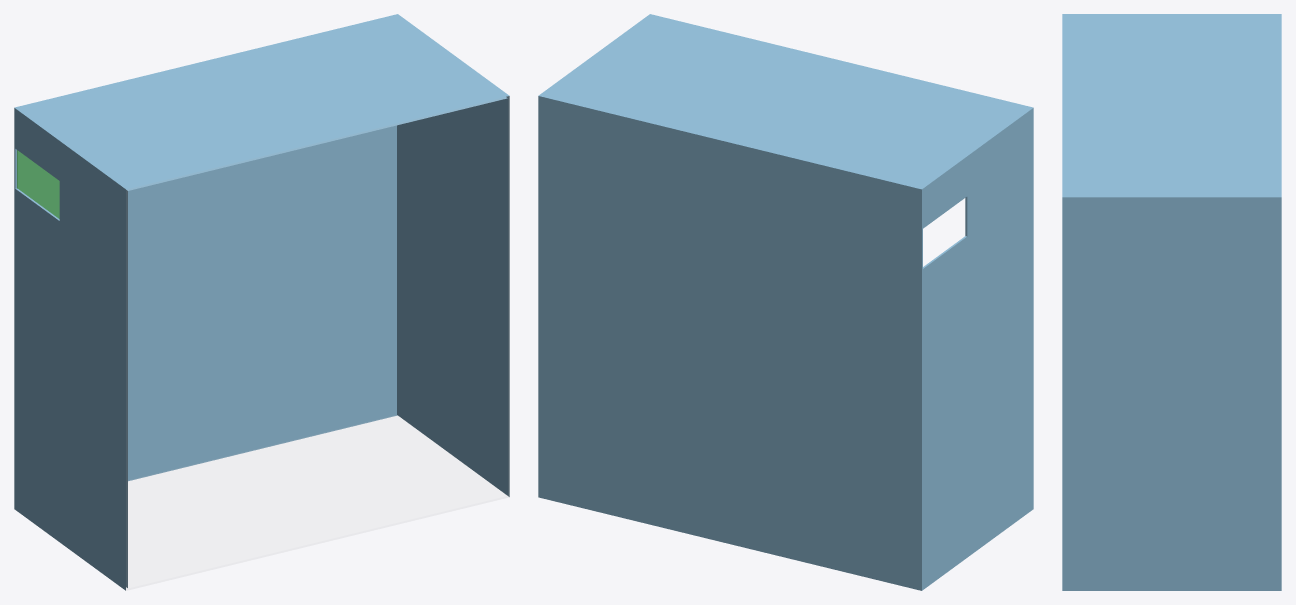
File: Final_walls.obj
3 renders of one model, left to right at view 1: azimuth 30°, elevation 25°; view 2: azimuth 150°, elevation 25°; view 3: azimuth 270°, elevation 25°, orthographic. The views are drawn at different scales.
Visible parts, largest first — view 1: mesh10, mesh4, mesh0, mesh12, Cube_Cube.001, mesh11, mesh1, mesh8; view 2: mesh3, mesh4, mesh0; view 3: mesh1, mesh0.
Boxes of the visible parts, box(x1,y1,x2,y2) form: mesh10: box(15, 125, 396, 480); mesh4: box(14, 108, 125, 590); mesh0: box(14, 14, 509, 189); mesh12: box(397, 98, 507, 495); Cube_Cube.001: box(17, 150, 59, 218); mesh11: box(126, 97, 507, 190); mesh1: box(402, 96, 509, 496); mesh8: box(126, 190, 127, 587); mesh3: box(538, 96, 921, 590); mesh4: box(922, 108, 1033, 590); mesh0: box(538, 14, 1033, 189); mesh1: box(1062, 197, 1281, 590); mesh0: box(1062, 14, 1281, 197).
Size of the model in its own units: 10 by 10 by 5.05.
